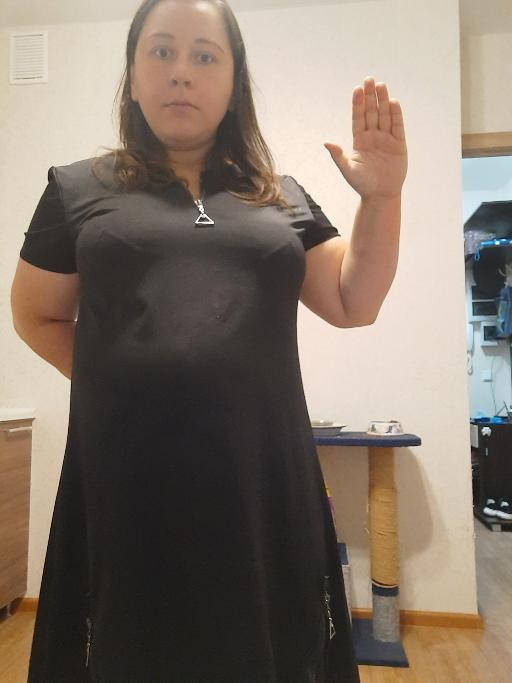stop: (321, 74, 410, 204)
